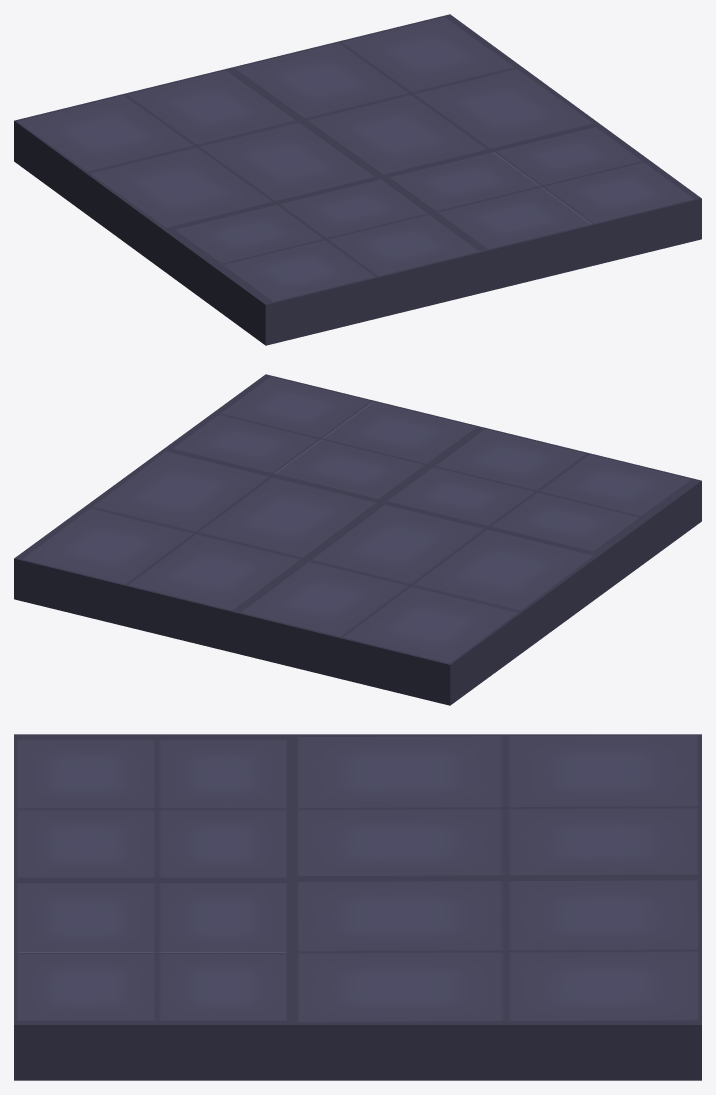
File: env_floor2.fbx
3 views of the same model, one above another, from view 1: azimuth 30°, elevation 25°; view 2: azimuth 150°, elevation 25°; view 3: azimuth 270°, elevation 25° (orthographic). The views are drawn at different scales.
Parts seen in each view (by area): view 1: env_floor2; view 2: env_floor2; view 3: env_floor2.
Boxes of the visible parts, x1,y1,x2,y2 form: env_floor2: (14,14,701,345); env_floor2: (14,374,701,705); env_floor2: (14,734,701,1080).
Bounding box in the file's own units: 286 × 25.55 × 286.
1 material, 1 textured.
